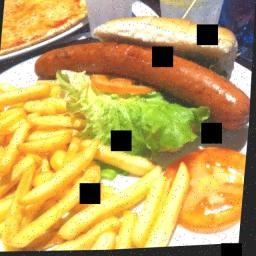hotdog: (34, 34, 254, 85), (198, 78, 252, 138)
